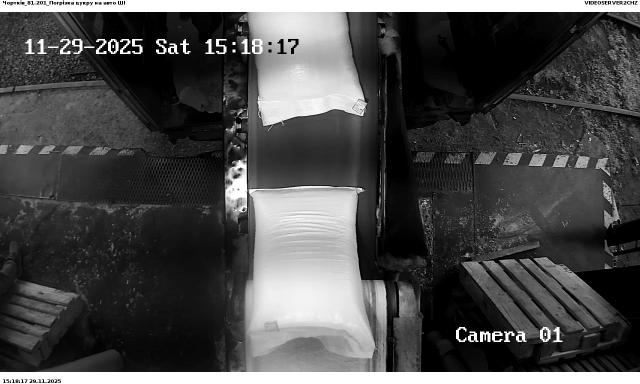bag: (249, 186, 376, 357), (248, 11, 368, 126)
